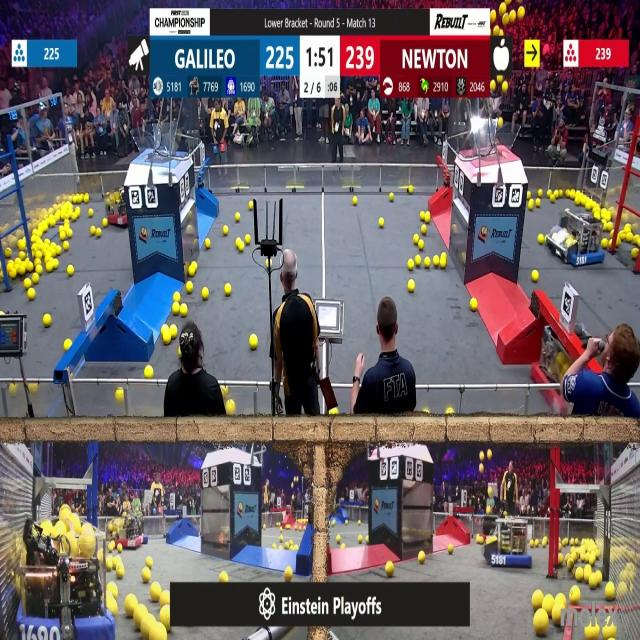ball_airborne: (518, 7, 526, 19), (501, 12, 508, 23), (511, 9, 517, 21), (491, 9, 497, 21), (493, 26, 500, 36), (499, 4, 506, 14), (502, 81, 508, 92), (488, 488, 493, 498), (491, 80, 496, 90), (498, 117, 503, 126), (480, 463, 485, 472), (488, 450, 492, 461), (496, 75, 502, 82), (481, 452, 485, 462), (499, 28, 504, 36), (487, 506, 492, 514)
ball_ground: (536, 612, 551, 639), (126, 595, 138, 616), (157, 610, 169, 630), (150, 584, 160, 604), (553, 606, 562, 626), (570, 588, 580, 605), (532, 592, 541, 610), (225, 402, 235, 418), (542, 595, 552, 610), (602, 628, 614, 640), (586, 628, 598, 640), (161, 592, 171, 606), (605, 585, 613, 602), (590, 574, 600, 587), (142, 568, 151, 582), (574, 568, 583, 582), (250, 336, 258, 351), (109, 600, 117, 615), (386, 562, 394, 576), (43, 314, 51, 328), (218, 571, 228, 582), (144, 365, 153, 377), (115, 566, 124, 578), (187, 265, 195, 278), (115, 389, 123, 402), (285, 567, 292, 581), (182, 302, 189, 316), (28, 288, 36, 300), (164, 334, 172, 346), (64, 340, 72, 352), (106, 559, 114, 571), (171, 325, 178, 338), (441, 255, 448, 268), (419, 552, 426, 564), (469, 300, 476, 312), (173, 304, 180, 316), (54, 260, 61, 272), (18, 264, 25, 276), (203, 288, 210, 299), (223, 284, 230, 295), (415, 255, 422, 266), (32, 274, 39, 285), (186, 281, 192, 293), (532, 271, 538, 283), (409, 280, 415, 292), (68, 266, 74, 278), (146, 558, 153, 568), (537, 235, 544, 245), (45, 264, 52, 274), (238, 242, 245, 252), (409, 261, 415, 272), (632, 248, 638, 259), (9, 271, 16, 280), (244, 236, 251, 245), (424, 258, 430, 268), (25, 279, 31, 289), (174, 291, 180, 301), (424, 212, 430, 222), (36, 265, 42, 275), (28, 263, 34, 273), (57, 246, 63, 256), (558, 555, 564, 565), (541, 537, 547, 547), (634, 235, 640, 245), (328, 410, 336, 417), (447, 410, 454, 418), (364, 536, 371, 544), (61, 232, 67, 241), (205, 240, 211, 249), (601, 240, 607, 249), (187, 224, 193, 233), (83, 192, 89, 201), (475, 534, 481, 543), (627, 234, 633, 243), (558, 189, 564, 198), (221, 386, 227, 395), (380, 217, 385, 227), (449, 543, 454, 553), (236, 212, 241, 222), (419, 240, 424, 250), (103, 218, 108, 228), (92, 225, 97, 235), (529, 201, 534, 211), (607, 240, 612, 250), (35, 251, 42, 258), (35, 257, 42, 264), (248, 202, 254, 210), (352, 198, 358, 206), (68, 231, 74, 239), (108, 542, 114, 550), (18, 252, 24, 260), (413, 236, 419, 244), (620, 233, 626, 241), (534, 538, 540, 546), (222, 225, 227, 234), (64, 242, 69, 251), (433, 256, 438, 265), (358, 538, 363, 547), (421, 224, 426, 233), (97, 229, 102, 238), (387, 194, 392, 202), (90, 209, 95, 217), (535, 200, 540, 208), (537, 189, 542, 197), (617, 240, 622, 248), (75, 208, 80, 216), (546, 189, 551, 197), (72, 213, 77, 221), (0, 272, 4, 281), (409, 186, 414, 193), (119, 547, 124, 554), (551, 197, 556, 204), (527, 191, 532, 198), (563, 538, 568, 545), (114, 542, 118, 550), (341, 542, 346, 548), (338, 535, 342, 542), (178, 350, 181, 358), (530, 539, 533, 547), (0, 310, 4, 316), (273, 543, 277, 548), (280, 536, 284, 541), (358, 518, 360, 525), (346, 521, 348, 526)
goal: (465, 122, 521, 160), (130, 129, 190, 161)
robot_blue: (21, 507, 112, 637), (546, 212, 602, 269), (484, 514, 530, 568)
robot_red: (535, 328, 584, 412), (106, 513, 145, 549), (104, 188, 128, 227)
